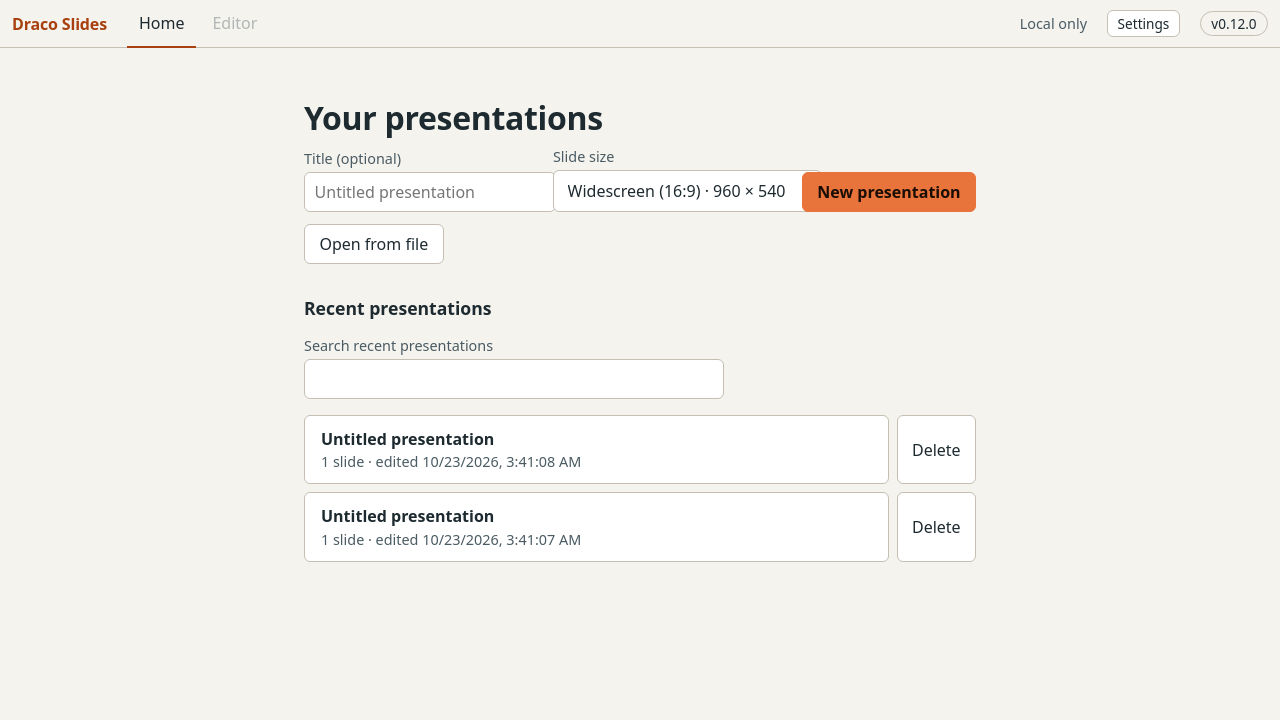
Scenario: Editor layout › PageUp and PageDown move between slides
The width and height of the screenshot is (1280, 720).
Click the button "New presentation". click: (889, 192)
box: [802, 172, 976, 212]
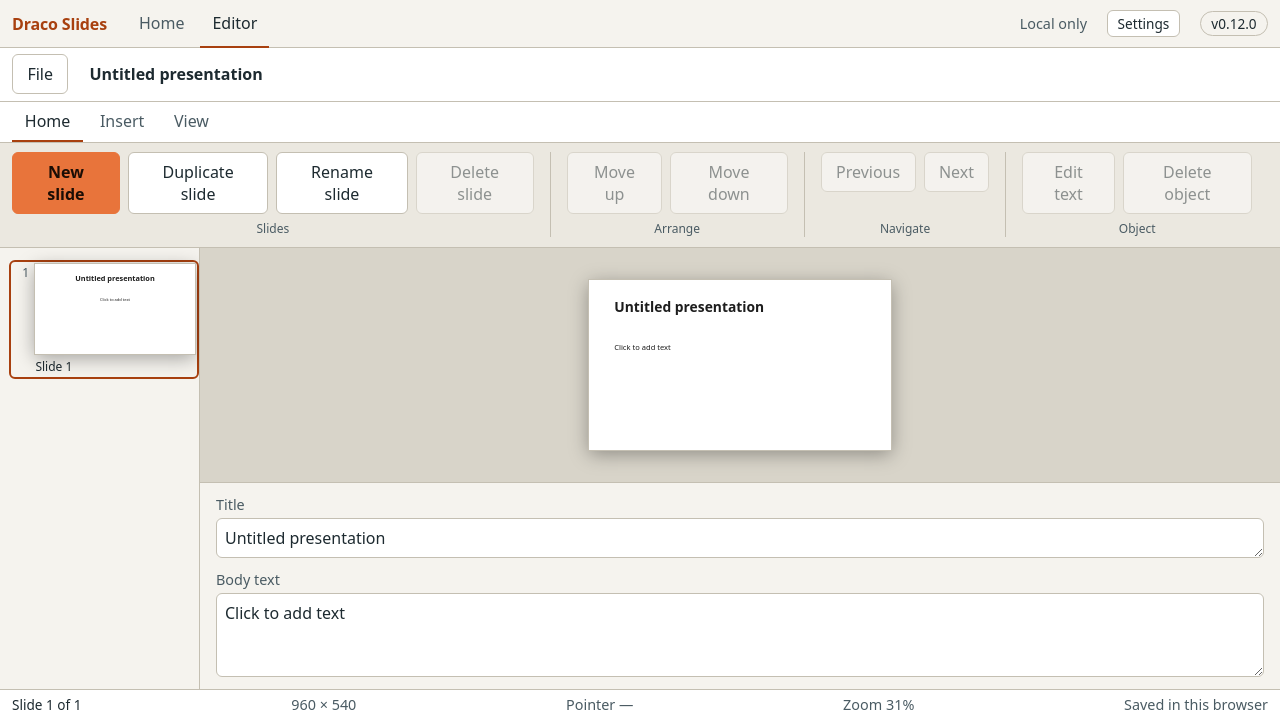
Click the button "New slide". click: (66, 183)
box: [12, 152, 120, 214]
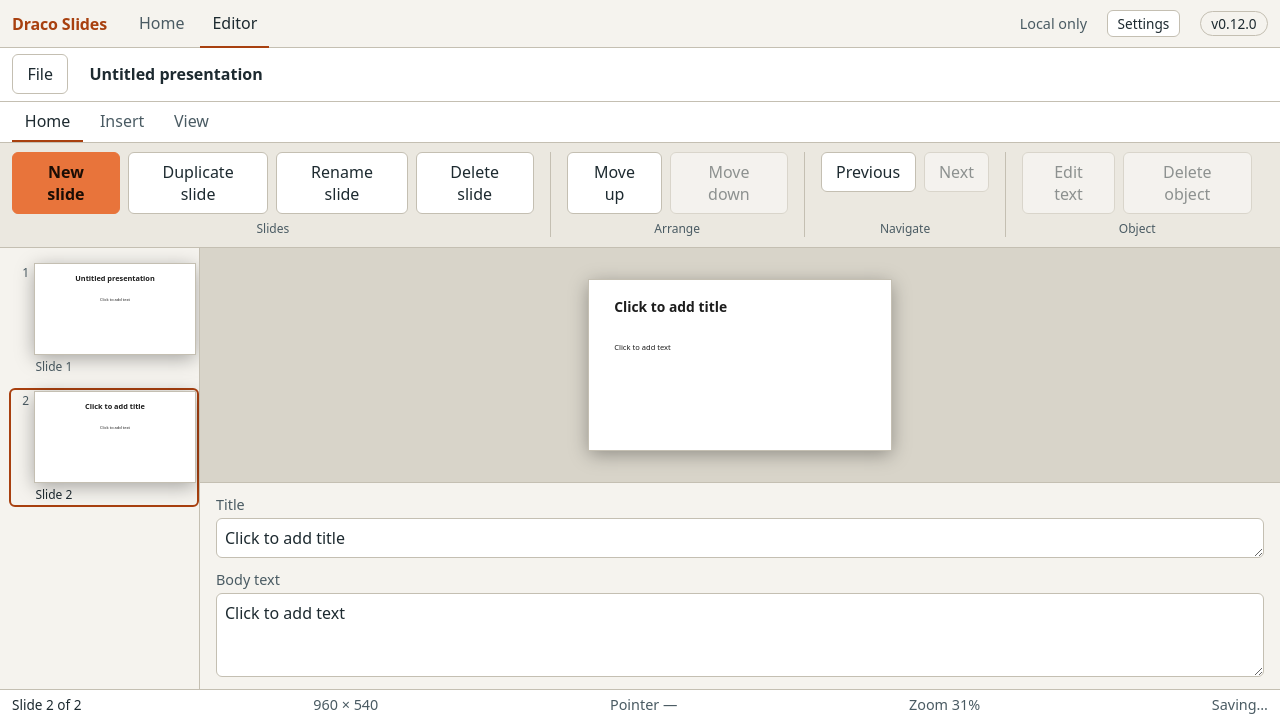
expect the text "Slide 2 of 2" is shown: met, box [12, 695, 82, 714]
Press PageUp in the element named "Slide editor", box [200, 248, 1279, 689]
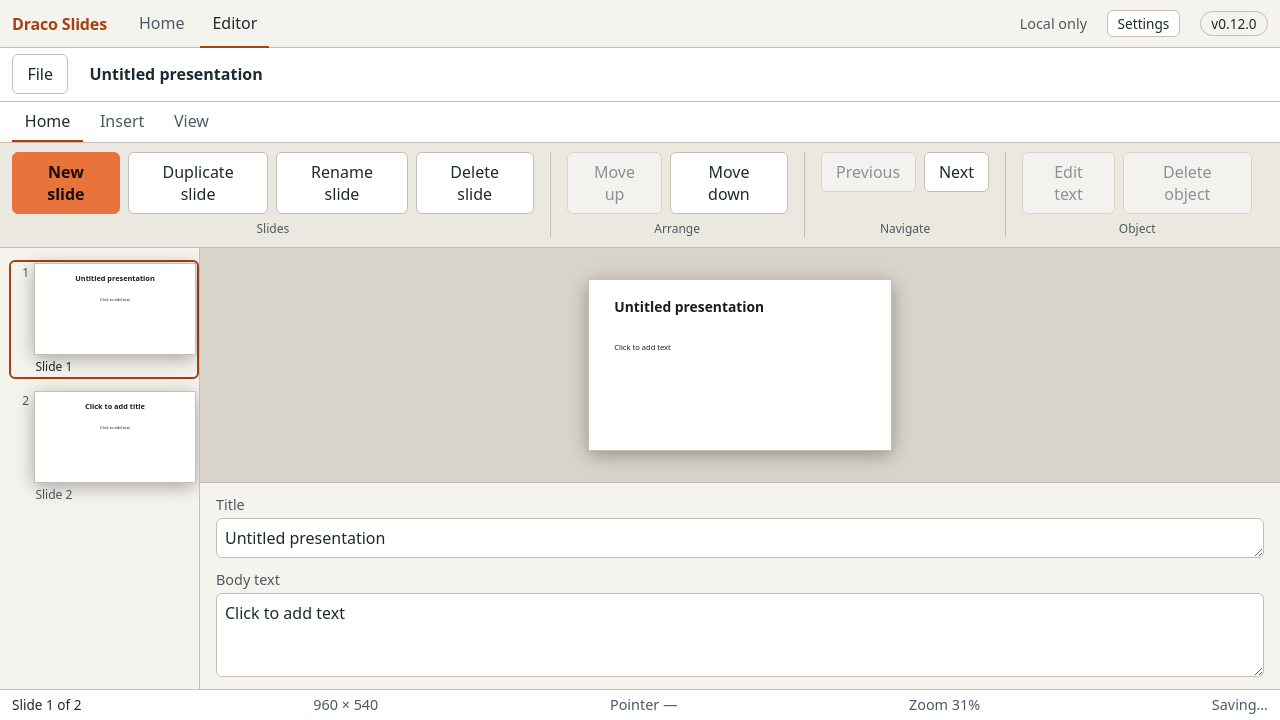
expect the text "Slide 1 of 2" is shown: met, box [12, 695, 82, 714]
Press PageDown in the element named "Slide editor", box [200, 248, 1279, 689]
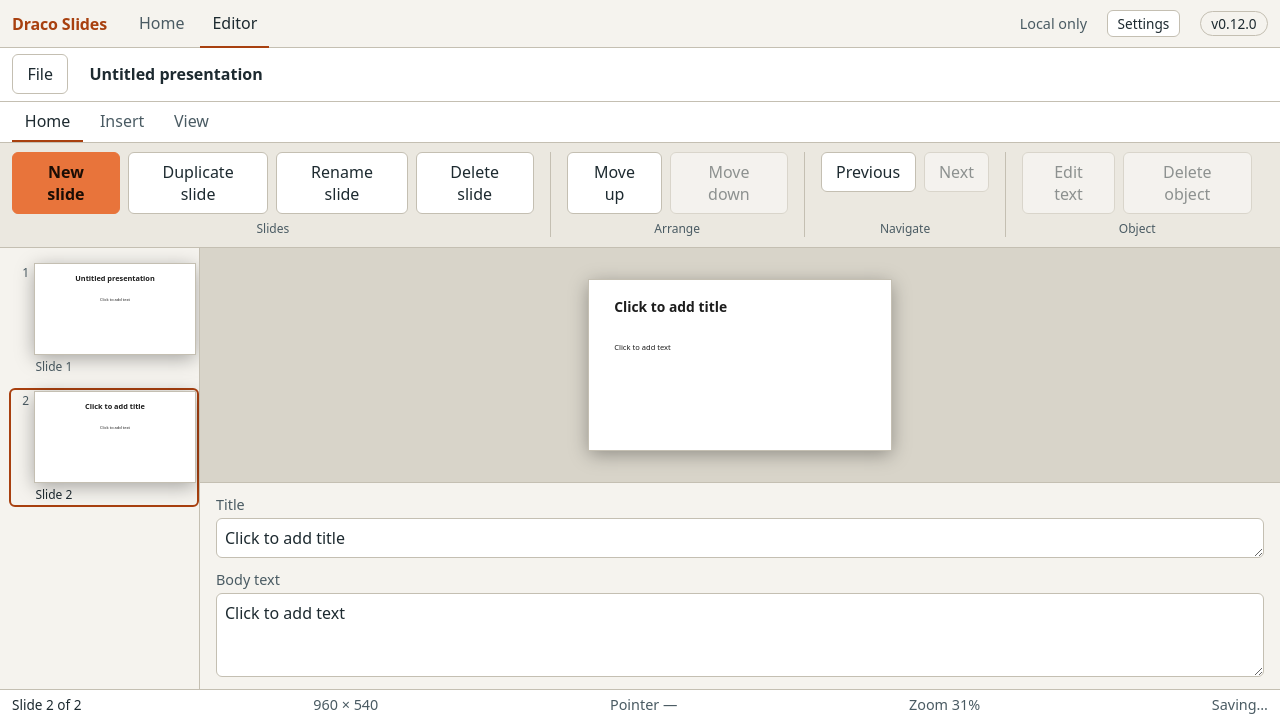
expect the text "Slide 2 of 2" is shown: met, box [12, 695, 82, 714]
